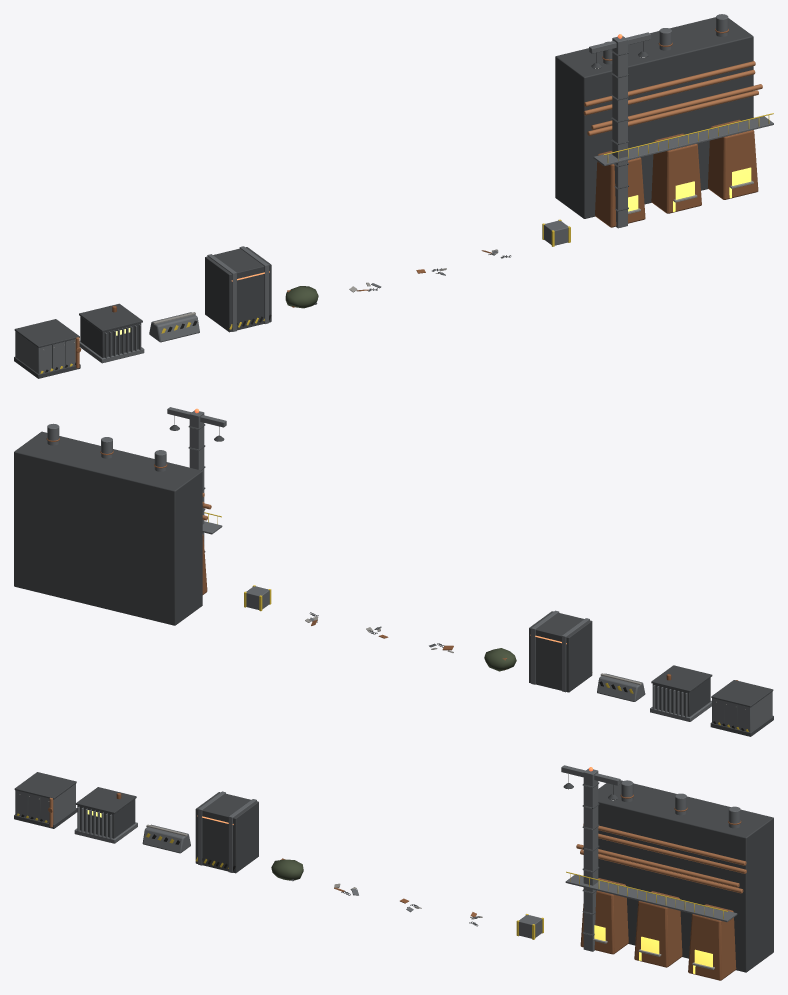
File: props-factory.glb
3 renders of one model, top to bottom at view 1: azimuth 30°, elevation 25°; view 2: azimuth 150°, elevation 25°; view 3: azimuth 330°, elevation 25°, orthographic. The views are drawn at different scales.
Parts seen in each view (by area): view 1: Grandstand, OuterWall, FloodTower, Wall, WallB, LowWall, Bush; view 2: Grandstand, OuterWall, Wall, WallB, FloodTower, LowWall, Bush, Crate; view 3: Grandstand, OuterWall, FloodTower, Wall, WallB, LowWall, Bush, Crate.
Boxes of the visible parts, left/top/right/bottom form: Grandstand: left=555, top=14, right=773, bottom=227; OuterWall: left=205, top=246, right=271, bottom=332; FloodTower: left=589, top=32, right=651, bottom=228; Wall: left=14, top=319, right=81, bottom=378; WallB: left=79, top=303, right=144, bottom=363; LowWall: left=149, top=312, right=199, bottom=342; Bush: left=285, top=286, right=318, bottom=308; Grandstand: left=14, top=423, right=222, bottom=625; OuterWall: left=529, top=610, right=592, bottom=692; Wall: left=710, top=680, right=773, bottom=736; WallB: left=650, top=665, right=712, bottom=721; FloodTower: left=167, top=407, right=226, bottom=552; LowWall: left=597, top=673, right=645, bottom=701; Bush: left=484, top=648, right=516, bottom=671; Crate: left=244, top=585, right=271, bottom=611; Grandstand: left=565, top=780, right=773, bottom=980; OuterWall: left=195, top=791, right=258, bottom=873; FloodTower: left=561, top=765, right=620, bottom=951; Wall: left=14, top=772, right=77, bottom=828; WallB: left=74, top=787, right=137, bottom=843; LowWall: left=142, top=824, right=190, bottom=853; Bush: left=271, top=858, right=303, bottom=881; Crate: left=516, top=914, right=543, bottom=939.
Size of the model in its own units: 17.5 by 4.41 by 2.35.
